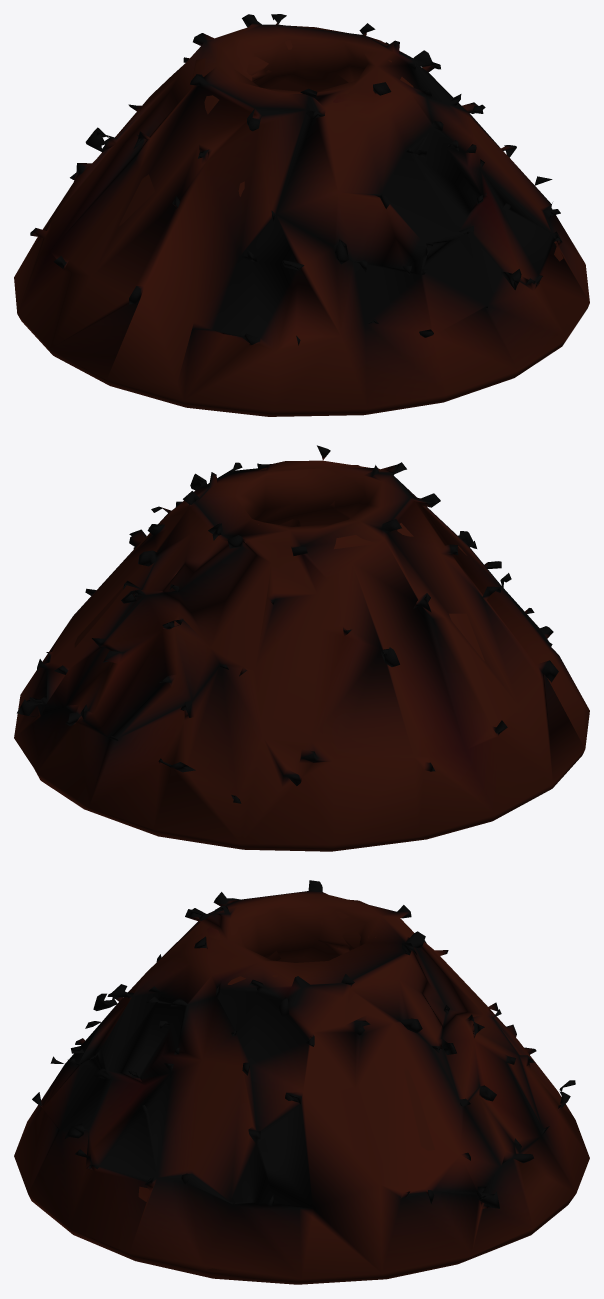
The model's file is gen3d-anthill-lod1.glb.
3 views of the same model, one above another, from view 1: azimuth 30°, elevation 25°; view 2: azimuth 150°, elevation 25°; view 3: azimuth 270°, elevation 25° (orthographic).
Parts seen in each view (by area): view 1: part_0; view 2: part_0; view 3: part_0.
Boxes of the visible parts, left/top/right/bottom form: part_0: left=14, top=14, right=589, bottom=416; part_0: left=14, top=445, right=589, bottom=851; part_0: left=14, top=880, right=589, bottom=1284.
Size of the model in its own units: 2.12 by 0.9959 by 2.12.
